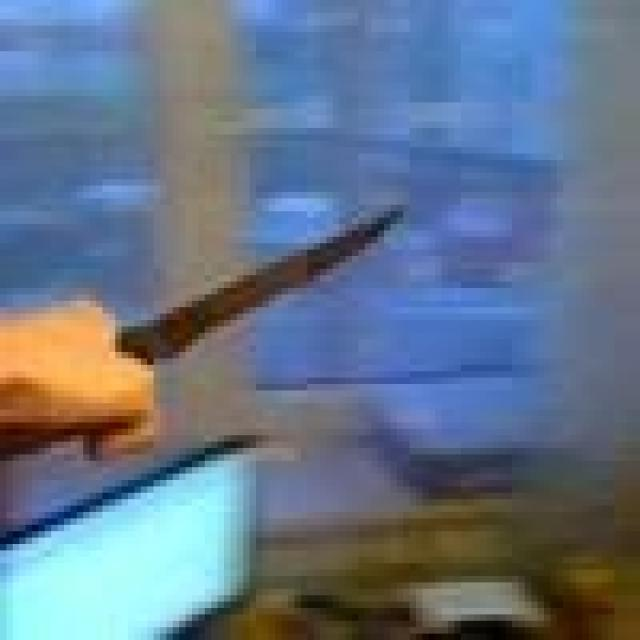senjata_tajam: (122, 202, 409, 360)
